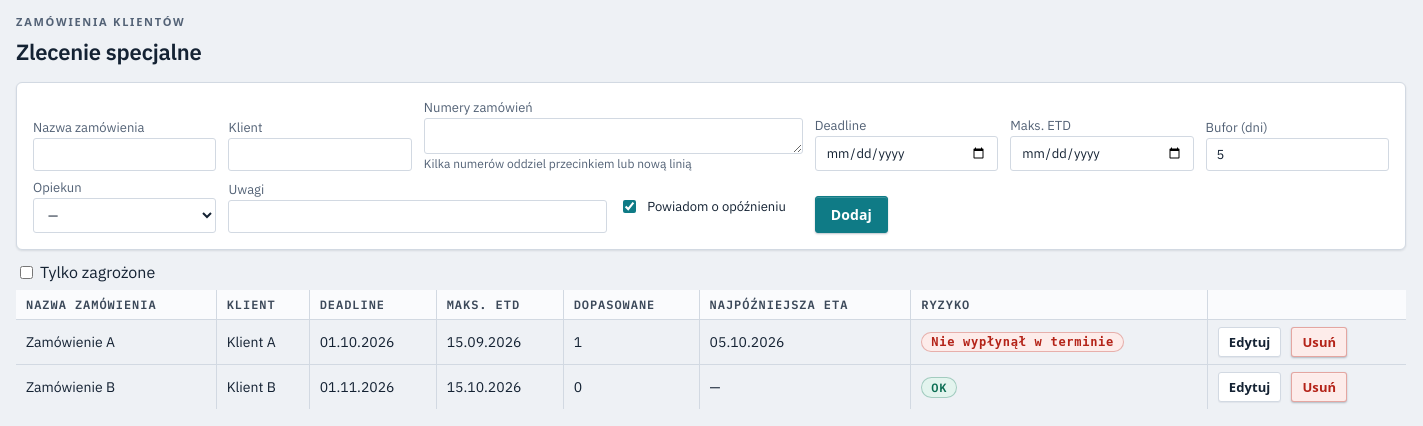
SpecialCarePage — lista ryzyka › renderuje obie nazwy, badge ryzyka i filtr „tylko zagrożone"
Expected: the text "Zamówienie A" is shown, [16,320,216,364]
Expected: the text "Zamówienie B" is shown, [16,364,216,409]
Click the checkbox labelled "Tylko zagrożone" at (26, 272), box [20,266,33,278]
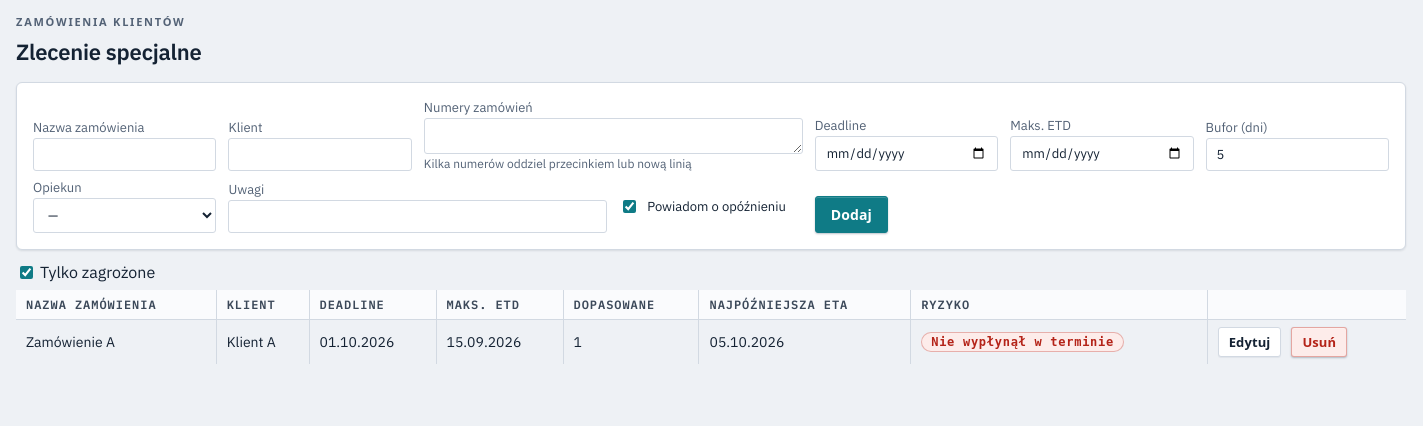
Expected: the text "Zamówienie A" is shown, [16,320,216,364]
Expected: the text "Zamówienie B" is gone
